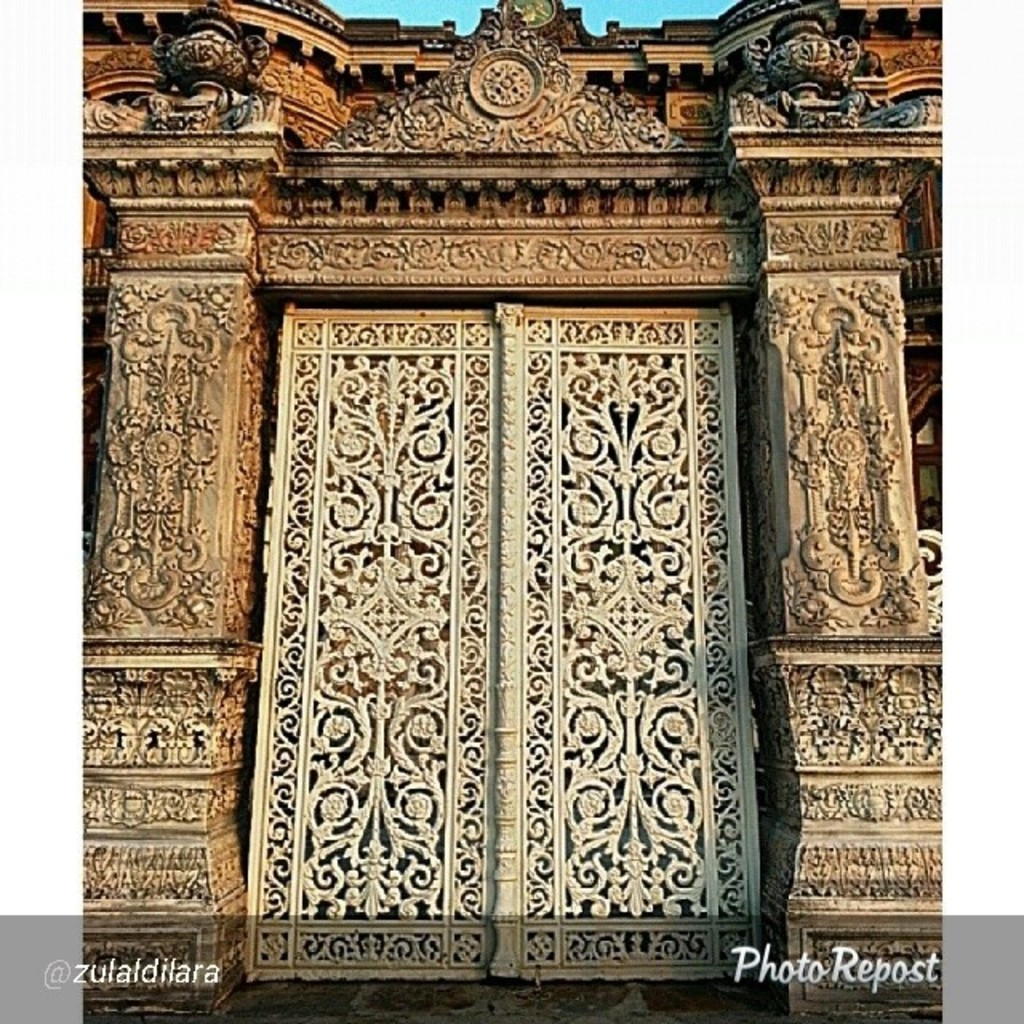door: (505, 317, 739, 978), (286, 329, 479, 966)
